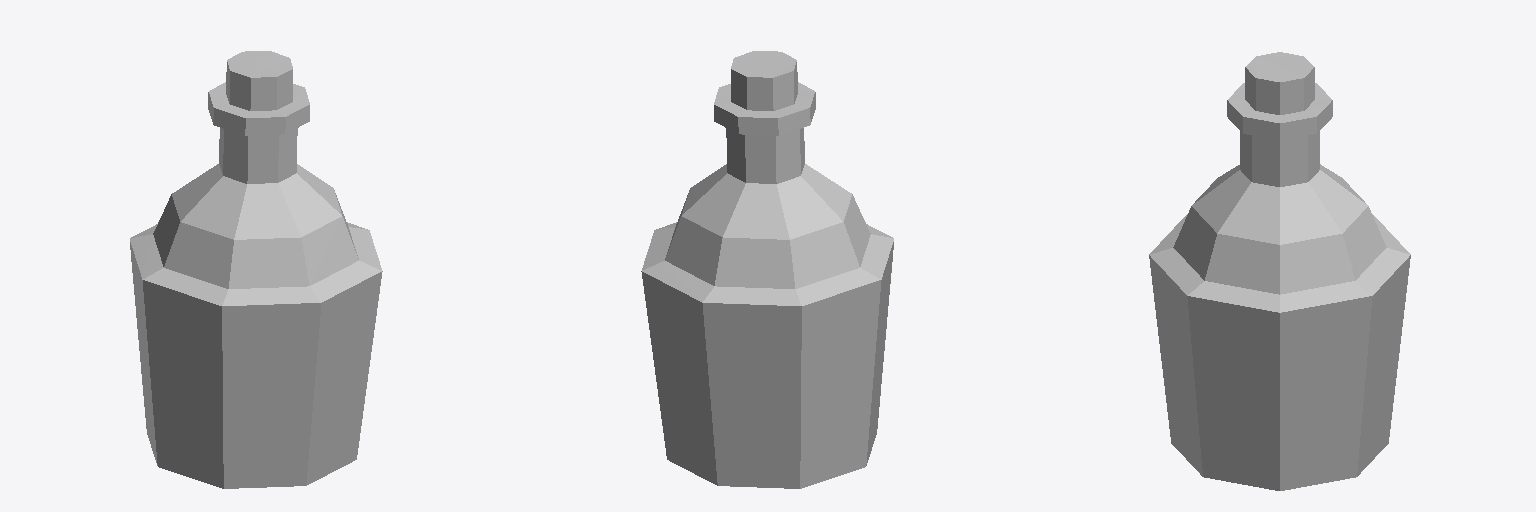
The model's file is misc019.obj.
3 renders of one model, left to right at view 1: azimuth 30°, elevation 25°; view 2: azimuth 150°, elevation 25°; view 3: azimuth 270°, elevation 25°, orthographic.
Visible parts, largest first — view 1: misc019; view 2: misc019; view 3: misc019.
Part boxes in pixels (x1,y1,x2,y2): misc019: (130, 51, 382, 488); misc019: (641, 51, 893, 488); misc019: (1149, 52, 1410, 490).
Bounding box in the file's own units: 0.0039 × 0.0063 × 0.0039.